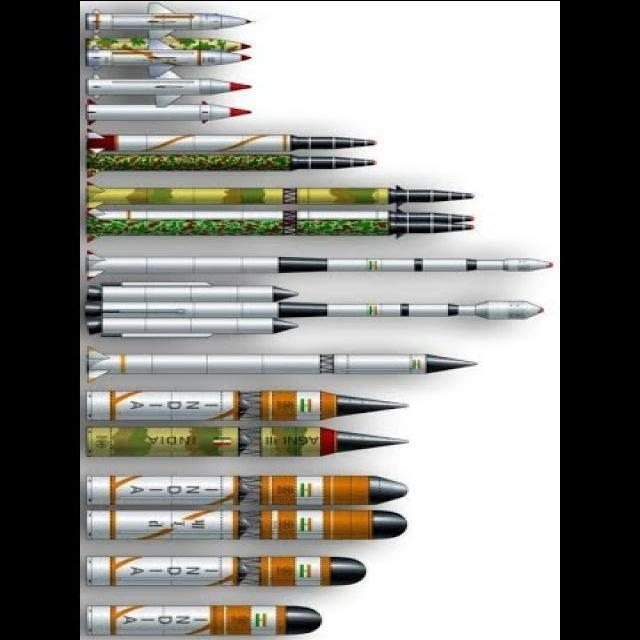Missile: (84, 345, 491, 382), (80, 504, 428, 544), (80, 381, 425, 418), (86, 424, 428, 461), (85, 552, 370, 594), (80, 471, 423, 504), (83, 251, 556, 274), (70, 600, 347, 636), (93, 600, 331, 634), (292, 294, 550, 322), (87, 281, 303, 307), (90, 316, 300, 342), (87, 97, 253, 127)
